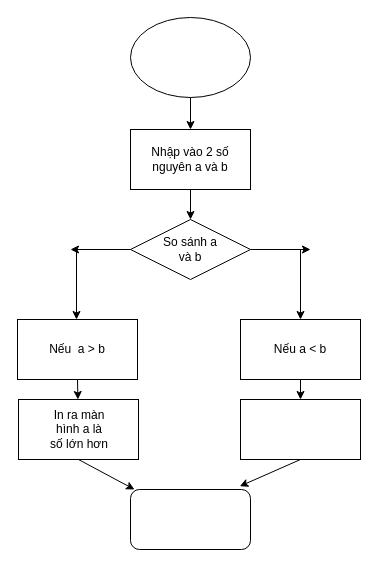
The diagram is 378 pixels wide and 567 high, and some of its shapes have lost their labels. Here are the shapes that lost their labels. From the top down, the centre of each, then its label:
At [190,57]: "Bắt đầu".
At [300,429]: "In ra màn hình b là số lớn hơn".
At [190,519]: "Kết thúc chương trình".
